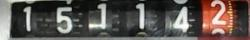digits: (130, 1, 159, 36), (88, 3, 118, 34), (208, 0, 228, 37), (55, 6, 73, 33), (172, 6, 189, 32), (23, 6, 31, 31)
